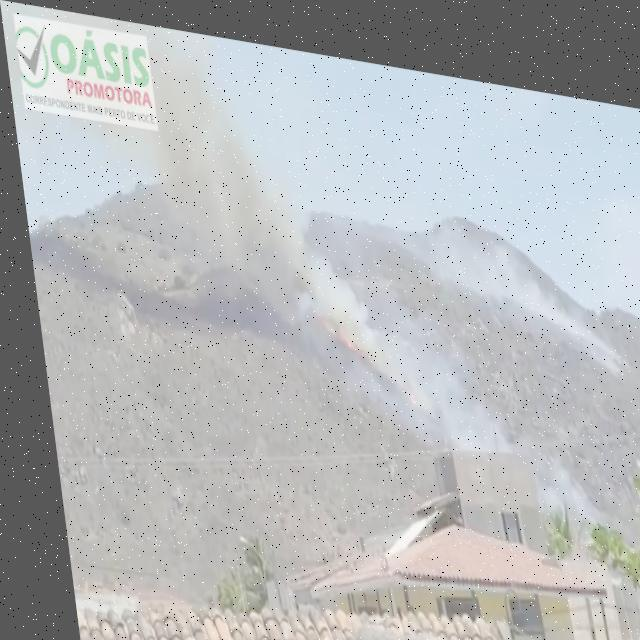Fire: (329, 305, 352, 342)
